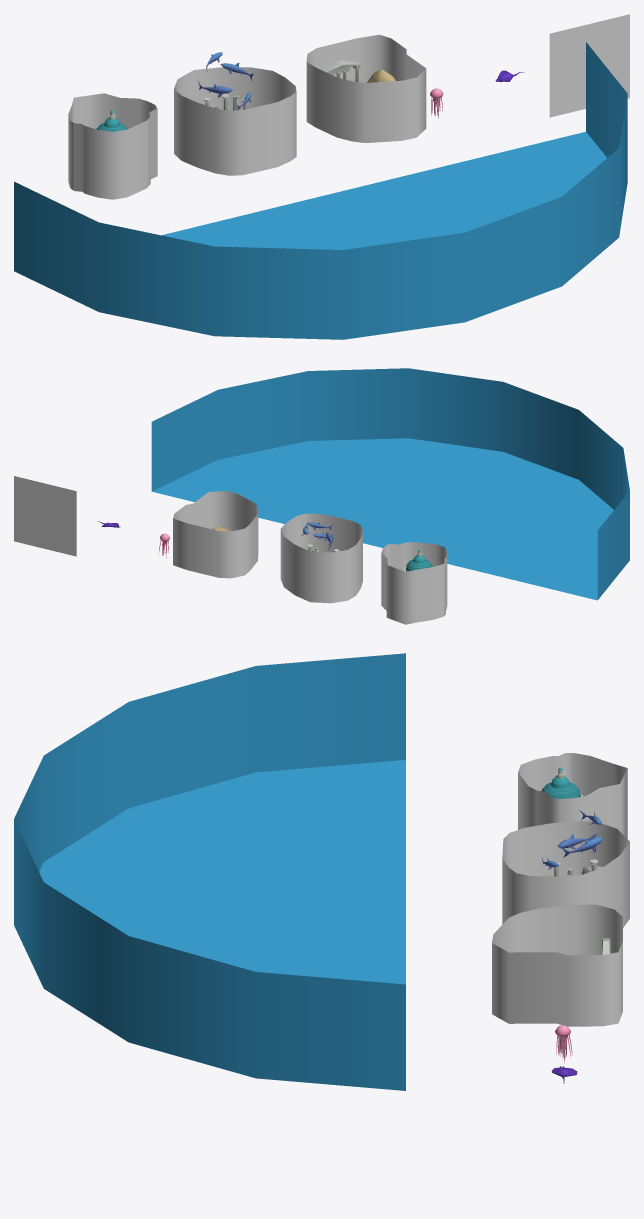
File: assets_t5_a2.fbx
3 views of the same model, one above another, from view 1: azimuth 30°, elevation 25°; view 2: azimuth 150°, elevation 25°; view 3: azimuth 270°, elevation 25° (orthographic). The views are drawn at different scales.
Visible parts, largest first — view 1: ground_t5_era2, godray_2, godray_3, godray_1, Asset5, Asset2, Asset3; view 2: ground_t5_era2, godray_2, godray_3, godray_1, Asset5, Asset2; view 3: ground_t5_era2, godray_3, godray_2, godray_1, Asset2.
Boxes of the visible parts, x1=… form: ground_t5_era2: x1=14, y1=42, x2=627, y2=339; godray_2: x1=174, y1=67, x2=296, y2=175; godray_3: x1=306, y1=34, x2=426, y2=142; godray_1: x1=68, y1=93, x2=157, y2=199; Asset5: x1=549, y1=14, x2=629, y2=117; Asset2: x1=198, y1=52, x2=253, y2=110; Asset3: x1=322, y1=60, x2=395, y2=82; ground_t5_era2: x1=151, y1=368, x2=629, y2=600; godray_2: x1=280, y1=513, x2=362, y2=603; godray_3: x1=173, y1=491, x2=258, y2=578; godray_1: x1=381, y1=542, x2=447, y2=624; Asset5: x1=14, y1=476, x2=76, y2=556; Asset2: x1=301, y1=521, x2=339, y2=551; ground_t5_era2: x1=14, y1=653, x2=405, y2=1090; godray_3: x1=492, y1=904, x2=622, y2=1026; godray_2: x1=502, y1=820, x2=629, y2=927; godray_1: x1=518, y1=753, x2=627, y2=838; Asset2: x1=542, y1=810, x2=602, y2=876.
Bounding box in the file's own units: 193 × 35.98 × 127.
